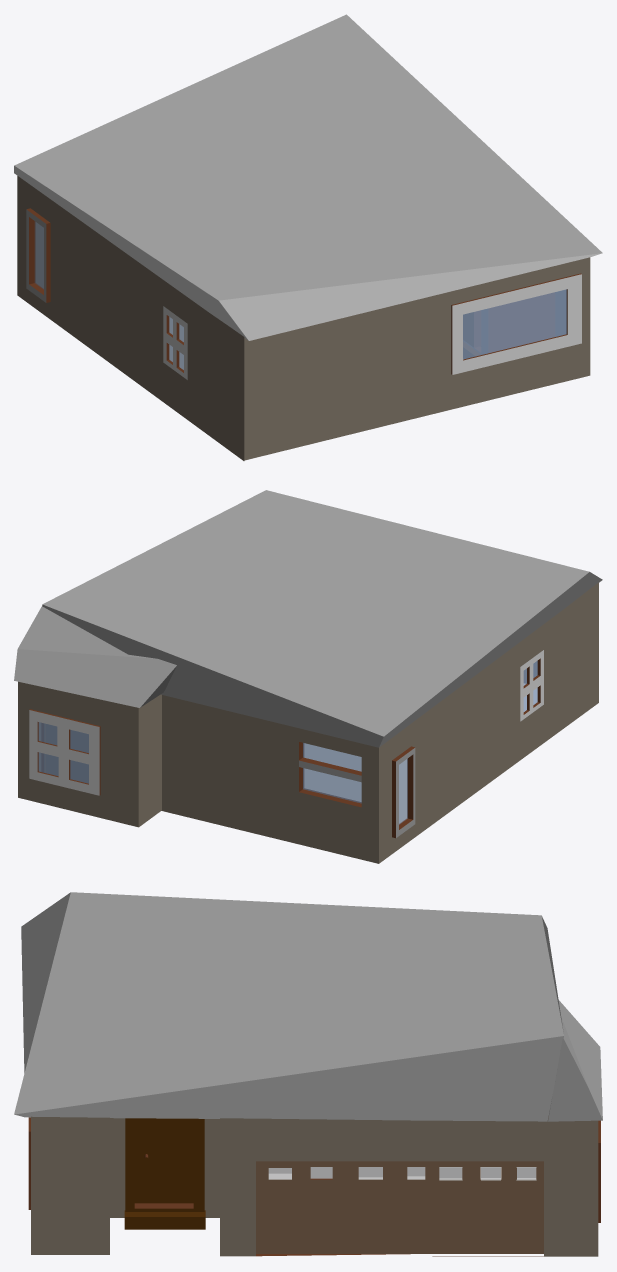
Rendered from house7.fbx.
3 views of the same model, one above another, from view 1: azimuth 30°, elevation 25°; view 2: azimuth 150°, elevation 25°; view 3: azimuth 270°, elevation 25° (orthographic). The views are drawn at different scales.
Visible parts, largest first — view 1: house7, Cube; view 2: house7, Cube; view 3: house7.
Part boxes in pixels (x1=…): house7: x1=14, y1=14, x2=602, y2=460; Cube: x1=34, y1=221, x2=43, y2=289; house7: x1=14, y1=490, x2=602, y2=863; Cube: x1=399, y1=758, x2=407, y2=824; house7: x1=14, y1=892, x2=602, y2=1256.
Bounding box in the file's own units: 2078 × 1073 × 2603.
